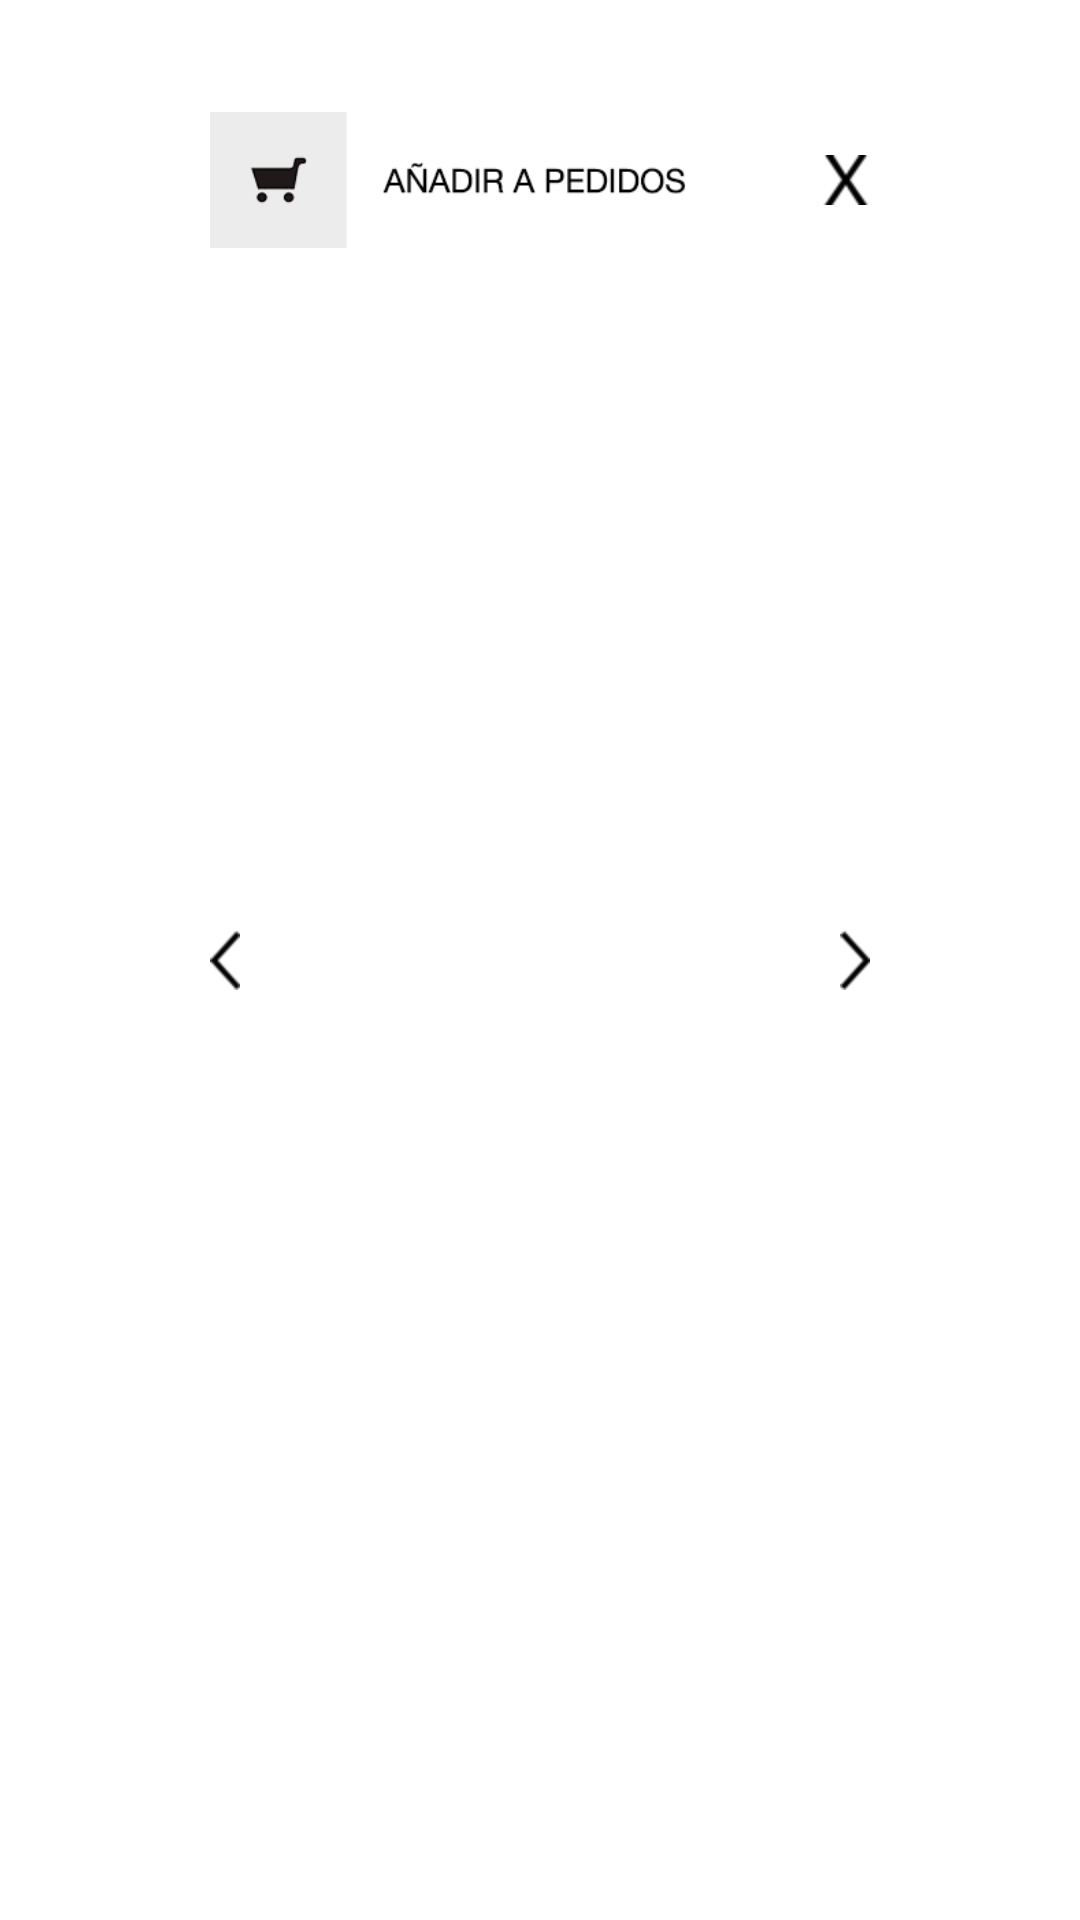

Where to tap for icons on this 1080*1920 app screen, as (x=x, y=y):
close: (x=846, y=180)
next: (x=855, y=960)
prev: (x=225, y=960)
